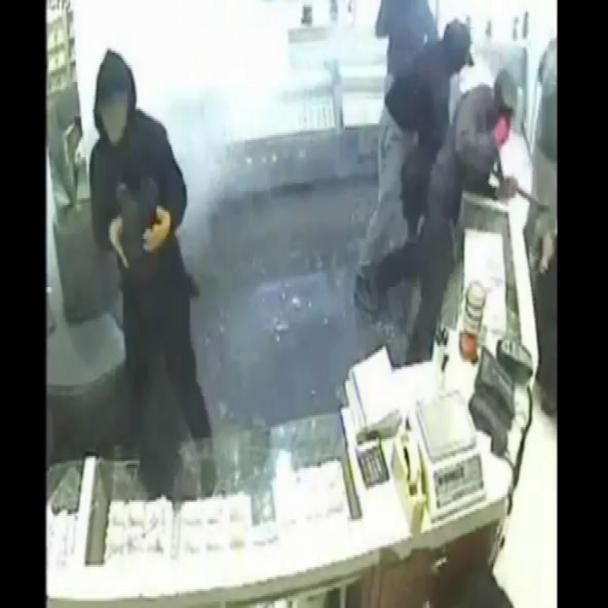smoke: (89, 5, 323, 390)
